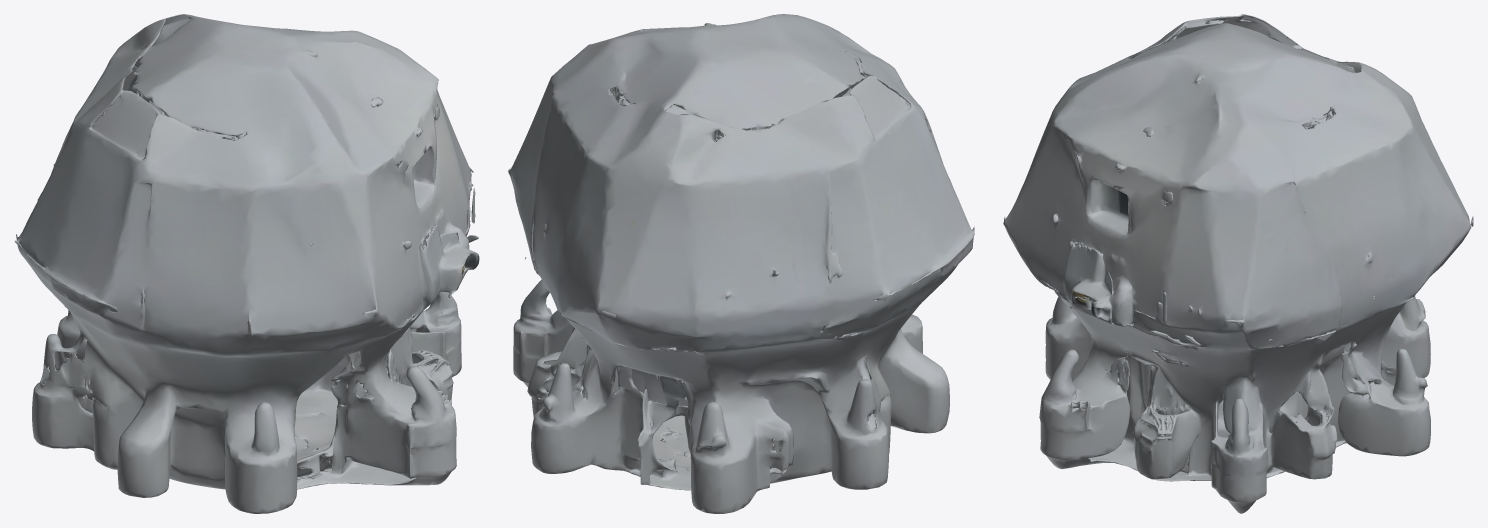
Rendered from lander.glb.
3 views of the same model, side by side, from view 1: azimuth 30°, elevation 25°; view 2: azimuth 150°, elevation 25°; view 3: azimuth 270°, elevation 25° (orthographic). The views are drawn at different scales.
Visible parts, largest first — view 1: geometry_0; view 2: geometry_0; view 3: geometry_0.
Boxes of the visible parts, x1,y1,x2,y2 form: geometry_0: [14, 14, 479, 513]; geometry_0: [508, 14, 974, 513]; geometry_0: [1003, 14, 1473, 513].
Size of the model in its own units: 0.9779 by 0.8939 by 0.9888.
Materials: 1 (1 with a texture image).
